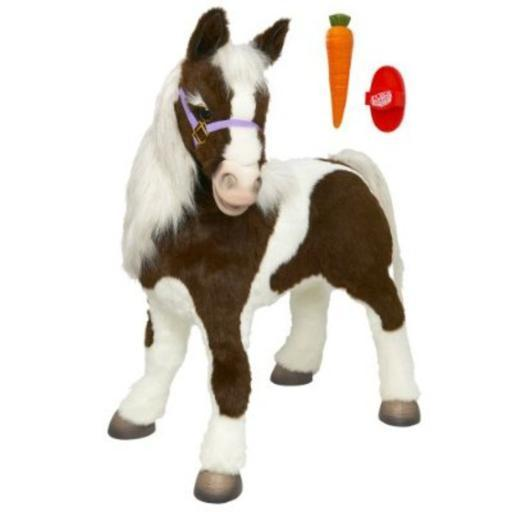horse: (108, 8, 424, 504)
